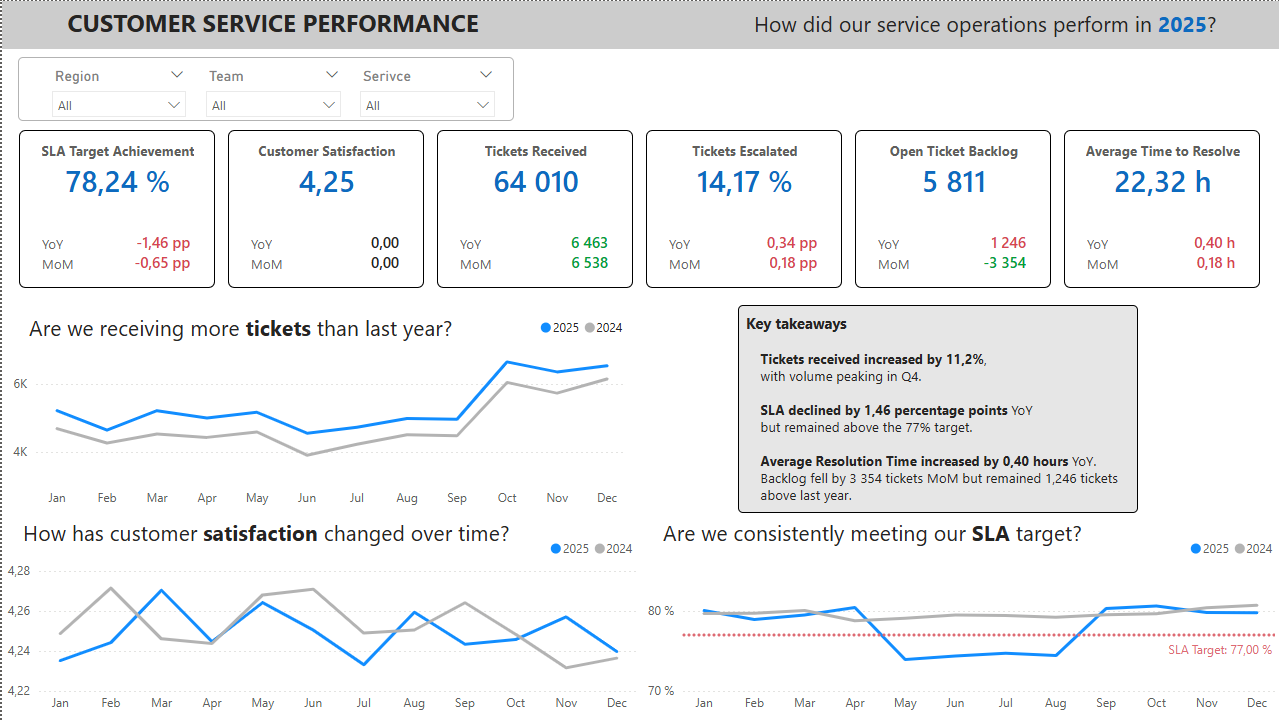

What the dashboard file says about the page in this screenshot:
{"tool":"powerbi","page":{"name":"Executive Overview","canvas":[1280,720],"ordinal":0},"visuals":[{"type":"textbox","box":[16,56,496,64],"z":0,"group":"g1"},{"type":"cardVisual","fields":{"Data":["Measures (2).SLA compliance","Measures (2).Average CSAT","Measures (2).Ticket Value","Measures (2).Escalation Rate %","Measures (2).Backlog Tickets","Measures (2).Average Resolution Time"]},"box":[0,112,1280,192],"z":0},{"type":"lineChart","title":"Are we receiving more tickets than last year?","fields":{"Y":["Measures (2).Ticket Value","Measures (2).Ticket Value 2024"],"Category":["dim_date.month_mmm"]},"box":[5.9,306.7,624,208],"z":1000},{"type":"lineChart","title":"Are we consistently meeting our SLA target?","fields":{"Y":["Measures (2).SLA compliance","Measures (2).SLA Compliance 2024"],"Category":["dim_date.month_mmm"]},"box":[640,528,640,192],"z":2000},{"type":"lineChart","title":"How has customer satisfaction changed over time?","fields":{"Y":["Measures (2).Average CSAT","Measures (2).Average CSAT 2024"],"Category":["dim_date.month_mmm"]},"box":[0,528,640,192],"z":3000},{"type":"textbox","box":[0,0,1280,48],"z":4000},{"type":"group","id":"g1","title":"Group 1","box":[16,56,496,64],"z":5000},{"type":"slicer","fields":{"Values":["dim_region.region_name"]},"box":[40.1,61.7,154.4,56],"z":5000,"group":"g1"},{"type":"slicer","fields":{"Values":["dim_team.team_name"]},"box":[194.5,61.7,154.4,56],"z":6000,"group":"g1"},{"type":"textbox","box":[21.9,306.7,448,48],"z":6000},{"type":"slicer","fields":{"Values":["dim_service.service_name"]},"box":[348.3,61.7,154.4,56],"z":7000,"group":"g1"},{"type":"textbox","box":[16,512,528,48],"z":7000},{"type":"textbox","box":[656,512,528,48],"z":8000},{"type":"textbox","box":[736,304,416,208],"z":9000}]}

Visuals, with their boxes in screenshot pixels (x1, y1, x2, y2), scaled from the page's 1280x720 canvas onto the 1279x721 screenshot:
textbox: [x1=16, y1=56, x2=512, y2=120]
cardVisual - Measures (2).SLA compliance x Measures (2).Average CSAT: [x1=0, y1=112, x2=1278, y2=304]
"Are we receiving more tickets than last year?" lineChart: [x1=6, y1=307, x2=629, y2=515]
"Are we consistently meeting our SLA target?" lineChart: [x1=640, y1=529, x2=1278, y2=720]
"How has customer satisfaction changed over time?" lineChart: [x1=0, y1=529, x2=640, y2=720]
textbox: [x1=0, y1=0, x2=1278, y2=48]
"Group 1" group: [x1=16, y1=56, x2=512, y2=120]
slicer - dim_region.region_name: [x1=40, y1=62, x2=194, y2=118]
slicer - dim_team.team_name: [x1=194, y1=62, x2=349, y2=118]
textbox: [x1=22, y1=307, x2=470, y2=355]
slicer - dim_service.service_name: [x1=348, y1=62, x2=502, y2=118]
textbox: [x1=16, y1=513, x2=544, y2=561]
textbox: [x1=655, y1=513, x2=1183, y2=561]
textbox: [x1=735, y1=304, x2=1151, y2=513]
